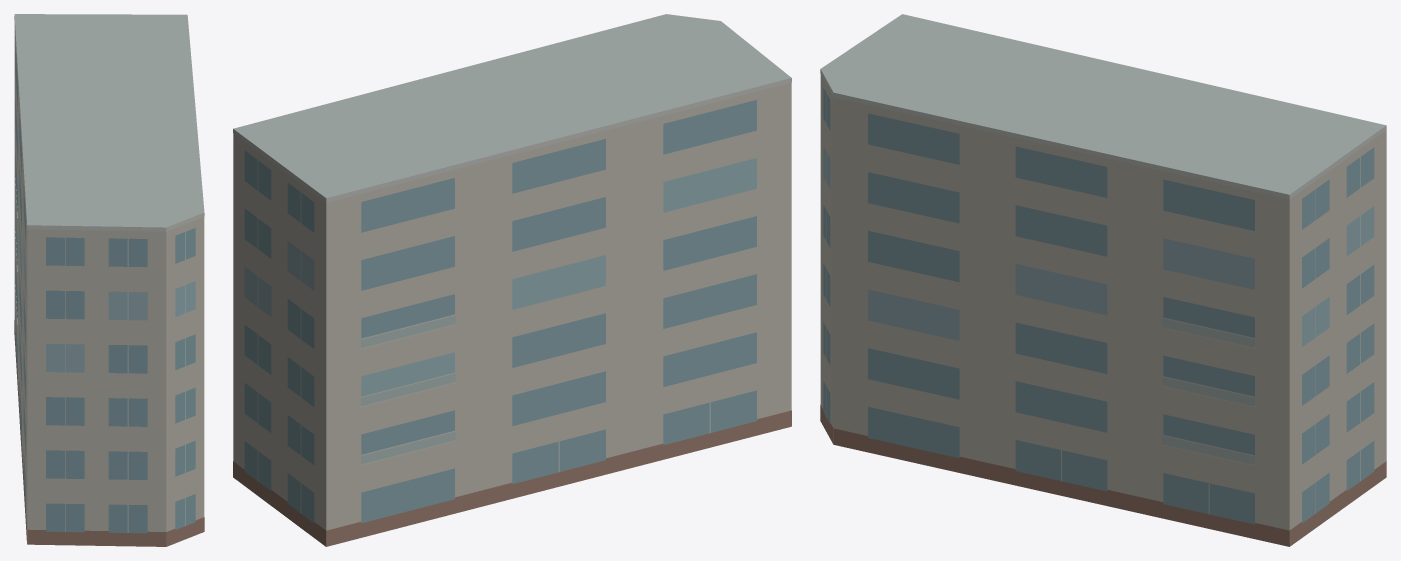
File: survey-upis-32870068.glb
3 views of the same model, side by side, from view 1: azimuth 30°, elevation 25°; view 2: azimuth 150°, elevation 25°; view 3: azimuth 270°, elevation 25° (orthographic). The views are drawn at different scales.
Parts seen in each view (by area): view 1: survey-upis-32870068.tmp; view 2: survey-upis-32870068.tmp; view 3: survey-upis-32870068.tmp.
Boxes of the visible parts, x1,y1,x2,y2 form: survey-upis-32870068.tmp: (14, 14, 204, 546); survey-upis-32870068.tmp: (233, 14, 791, 546); survey-upis-32870068.tmp: (820, 14, 1386, 546).
Bounding box in the file's own units: 20.16 × 18.3 × 26.67.
